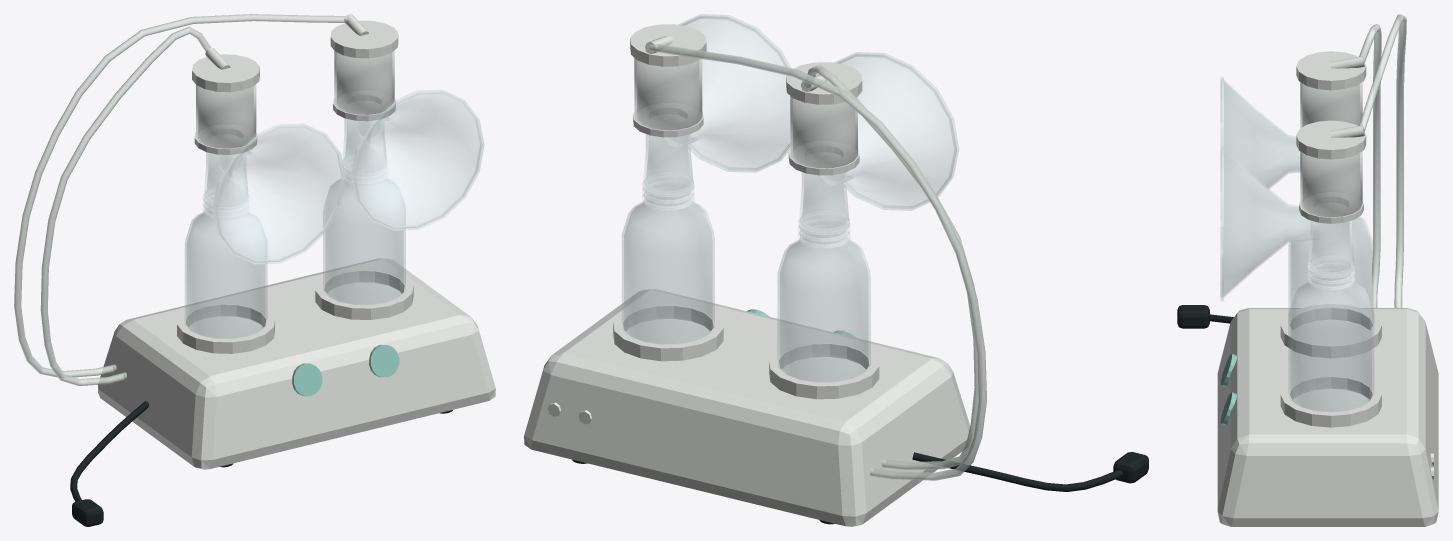
File: A-NEW-20261026-ELECTRIC-BREAST-PUMP-001_LOD2_R3.fbx
The picture shows the model from 3 angles, left to right: view 1: azimuth 30°, elevation 25°; view 2: azimuth 150°, elevation 25°; view 3: azimuth 270°, elevation 25°; orthographic projection. The views are drawn at different scales.
Parts seen in each view (by area): view 1: motor dock base, open flared shield 1, open flared shield 0, clear collection bottle 0, clear collection bottle 1, pale hose 1, pale hose 0, frosted upper separator 1, frosted upper separator 0, bottle cradle 1, bottle cradle 0, white separator lid 1 (+11 smaller); view 2: motor dock base, clear collection bottle 0, clear collection bottle 1, open flared shield 0, open flared shield 1, pale hose 1, frosted upper separator 1, frosted upper separator 0, bottle cradle 1, bottle cradle 0, clear connector 0, clear connector 1 (+9 smaller); view 3: motor dock base, clear collection bottle 1, open flared shield 1, open flared shield 0, frosted upper separator 1, bottle cradle 1, bottle cradle 0, pale hose 1, clear collection bottle 0, pale hose 0, clear connector 1, frosted upper separator 0 (+7 smaller).
Boxes of the visible parts, box(x1,y1,x2,y2) form: motor dock base: box(98, 258, 495, 469); open flared shield 1: box(353, 91, 482, 228); open flared shield 0: box(215, 125, 343, 262); clear collection bottle 0: box(185, 191, 267, 338); clear collection bottle 1: box(323, 157, 405, 304); pale hose 1: box(14, 14, 347, 377); pale hose 0: box(40, 26, 211, 385); frosted upper separator 1: box(334, 50, 394, 121); frosted upper separator 0: box(196, 84, 256, 154); bottle cradle 1: box(315, 267, 413, 319); bottle cradle 0: box(177, 301, 274, 353); white separator lid 1: box(330, 20, 398, 58); motor dock base: box(524, 289, 971, 526); clear collection bottle 0: box(777, 215, 870, 382); clear collection bottle 1: box(622, 177, 714, 344); open flared shield 0: box(819, 54, 956, 208); open flared shield 1: box(663, 16, 789, 170); pale hose 1: box(649, 43, 986, 480); frosted upper separator 1: box(634, 58, 702, 137); frosted upper separator 0: box(790, 96, 857, 175); bottle cradle 1: box(613, 301, 723, 361); bottle cradle 0: box(769, 339, 879, 399); clear connector 0: box(799, 172, 849, 233); clear connector 1: box(643, 134, 693, 195); motor dock base: box(1217, 308, 1438, 526); clear collection bottle 1: box(1288, 260, 1373, 411); open flared shield 1: box(1222, 148, 1319, 298); open flared shield 0: box(1222, 79, 1300, 189); frosted upper separator 1: box(1300, 151, 1362, 223); bottle cradle 1: box(1280, 373, 1381, 427); bottle cradle 0: box(1280, 304, 1381, 358); pale hose 1: box(1359, 14, 1406, 307); clear collection bottle 0: box(1288, 216, 1373, 323); pale hose 0: box(1359, 24, 1381, 307); clear connector 1: box(1308, 221, 1354, 276); frosted upper separator 0: box(1300, 82, 1362, 128).
Bounding box in the file's own units: 39.67 × 33.68 × 20.11.
